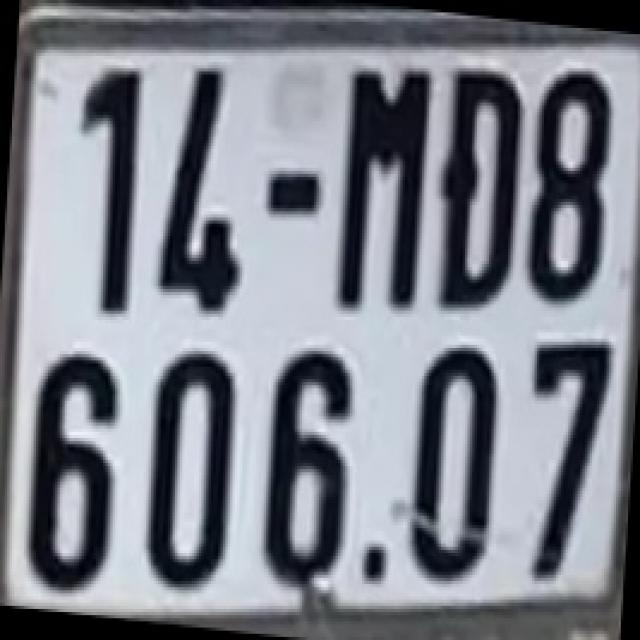0: (144, 348, 235, 587), (408, 342, 498, 581)
1: (76, 59, 146, 314)
4: (158, 62, 244, 317)
6: (27, 348, 118, 590), (262, 345, 352, 584)
7: (530, 338, 612, 582)
8: (527, 68, 609, 302)
D: (441, 69, 518, 308)
M: (336, 49, 430, 310)
